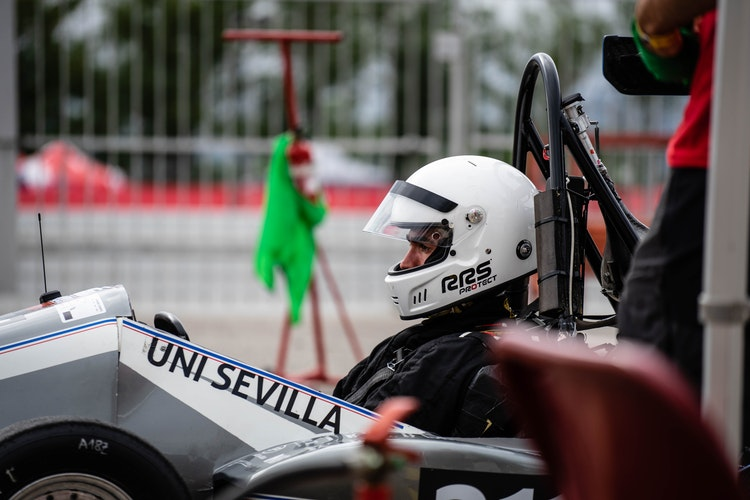helmet: (358, 149, 536, 302)
